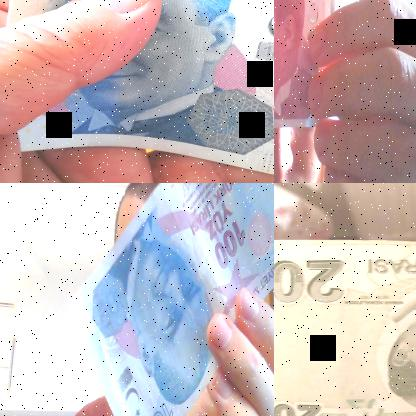5 TL: (5, 0, 273, 181)
